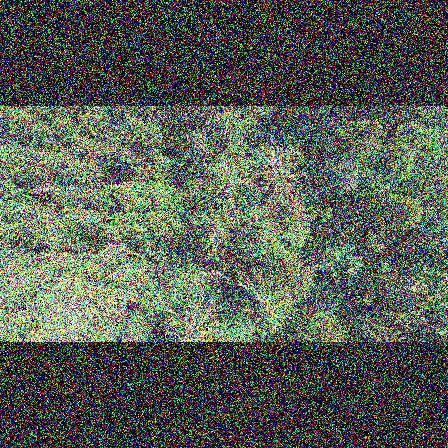Sick: (256, 145, 298, 188)
